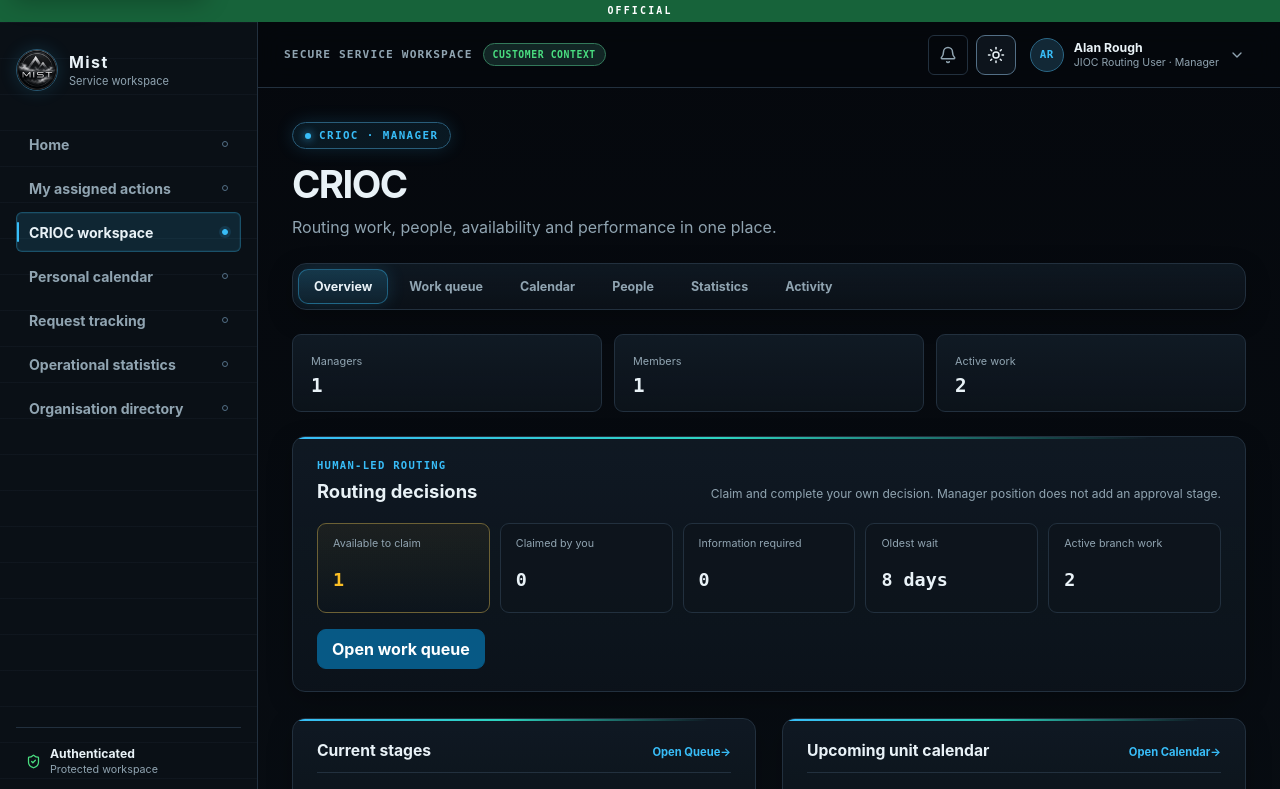
it: routing organisation workspace › opens the paged queue after the overview has cached its summary list
Expected: the heading "Routing decisions" is shown, [317,480,477,502]
Step 1. Click the link "Open work queue" → (401,649), box [317,629,485,669]
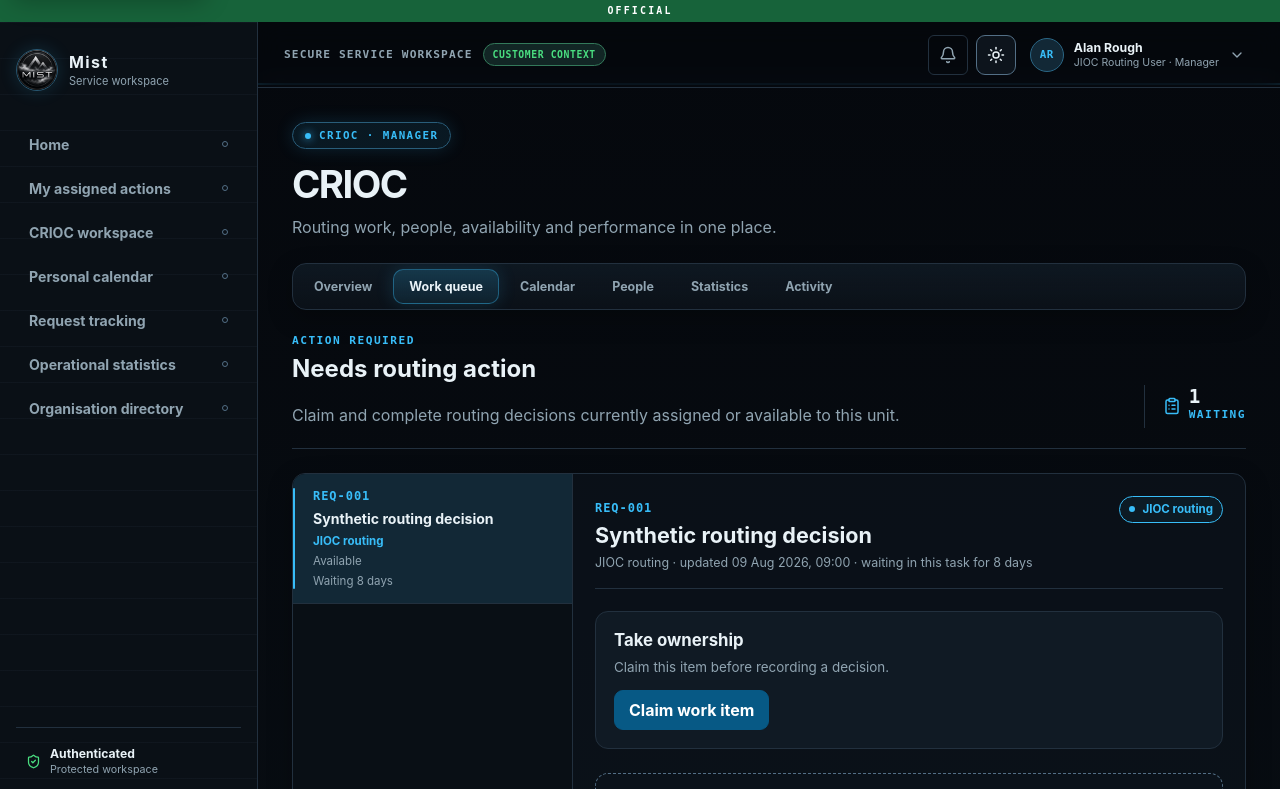
Result: the heading "Needs routing action" is shown at [292,354,536,383]
Result: the button "Claim work item" is shown at [614,690,769,730]
